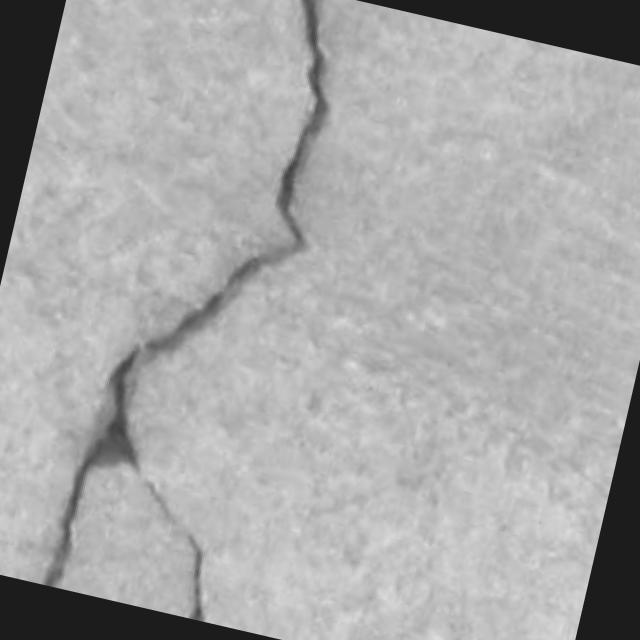crack: (42, 0, 328, 586)
